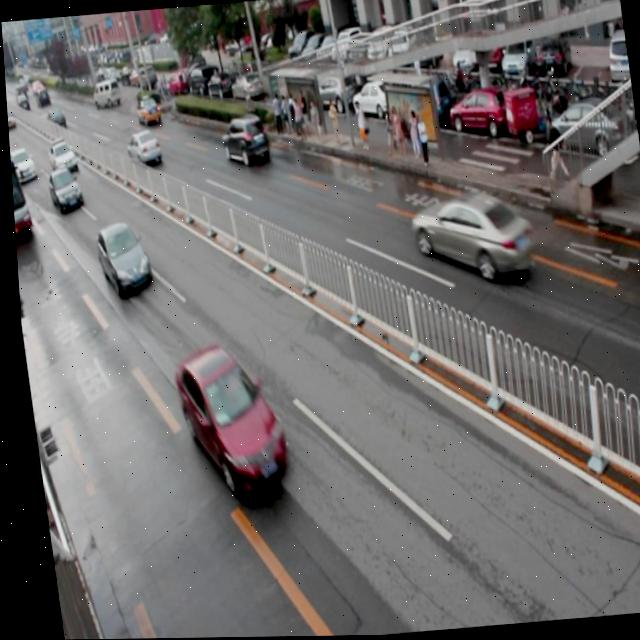car: (164, 340, 286, 500), (402, 185, 531, 289), (90, 222, 148, 294), (215, 112, 269, 169), (44, 168, 82, 214), (123, 130, 160, 166), (45, 138, 77, 174), (133, 96, 160, 125)
van: (7, 136, 32, 242)
